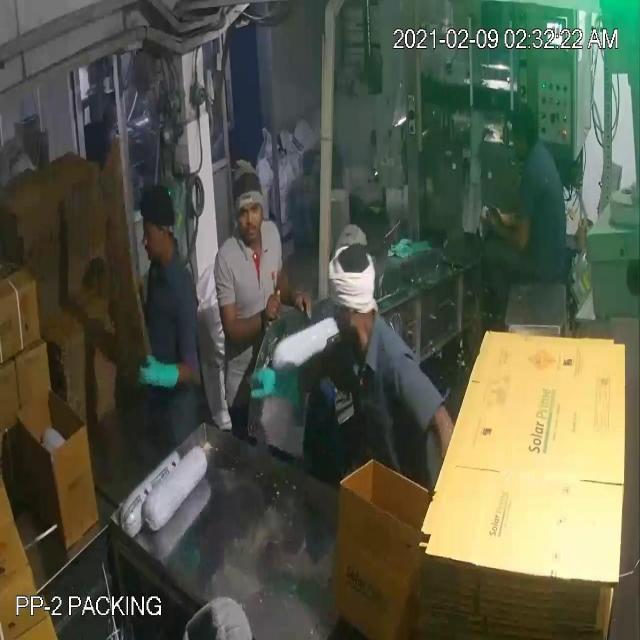Gloves: (38, 63, 512, 386)
